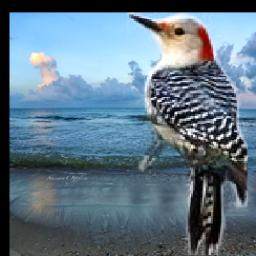Woodpecker: (128, 13, 249, 256)
